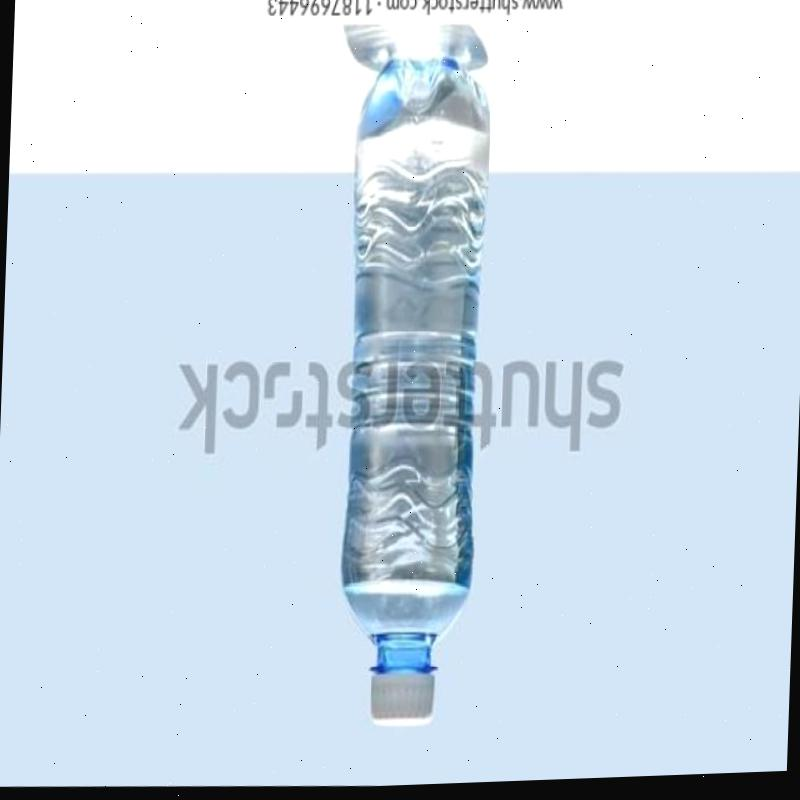botella: (328, 51, 494, 736)
